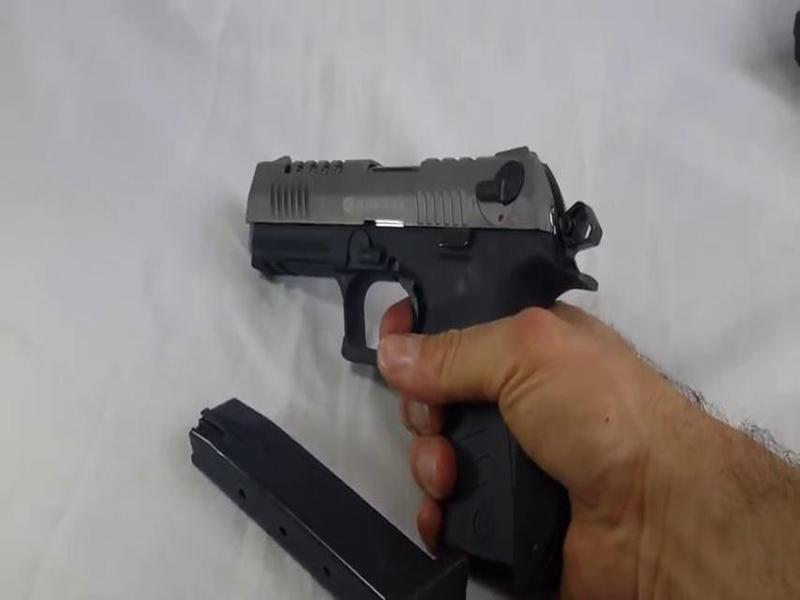Pistola: (238, 128, 590, 524)
